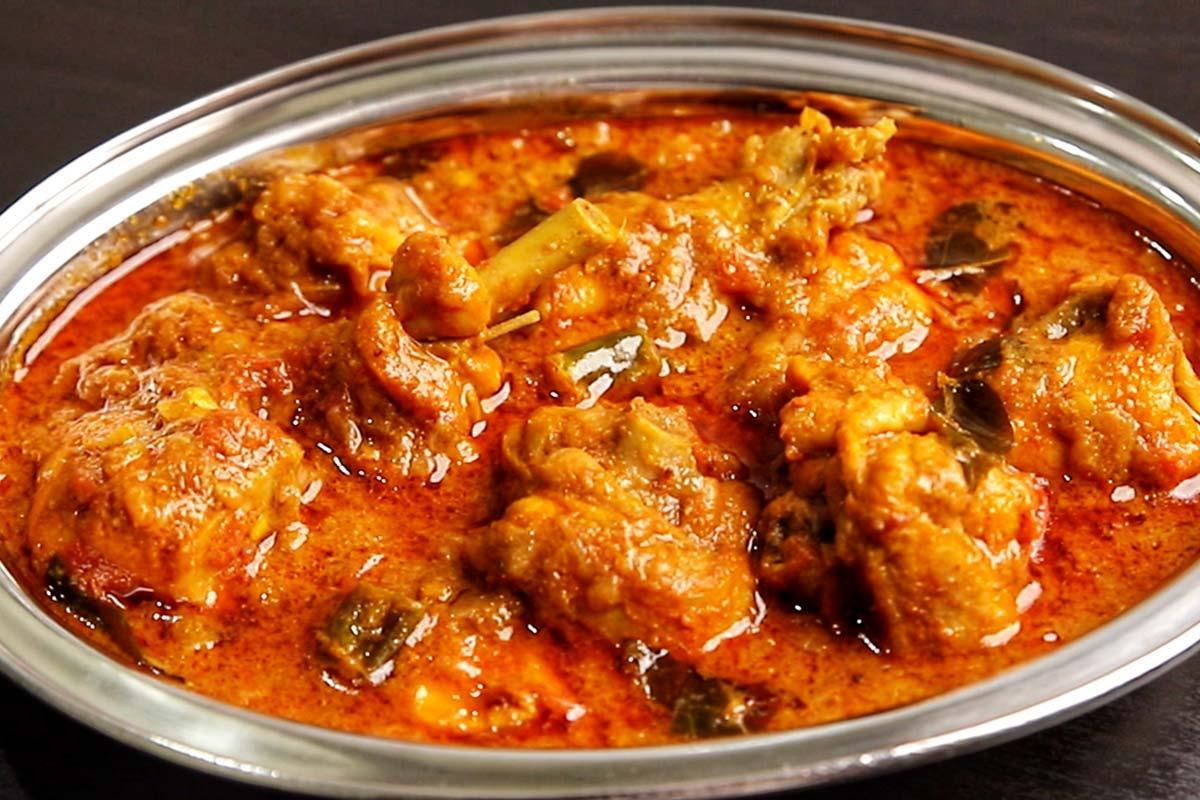chicken: (80, 137, 1162, 738)
